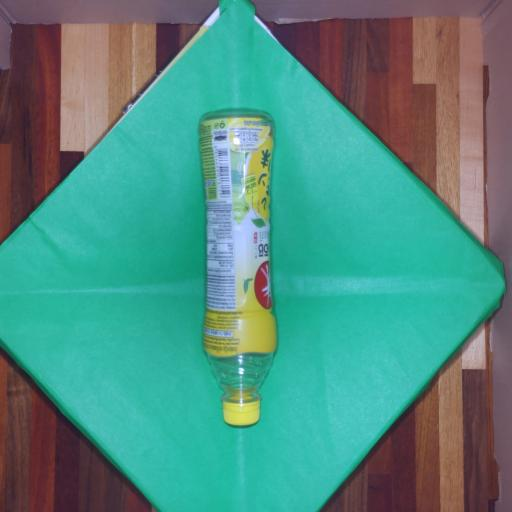bottle: (175, 88, 300, 446)
